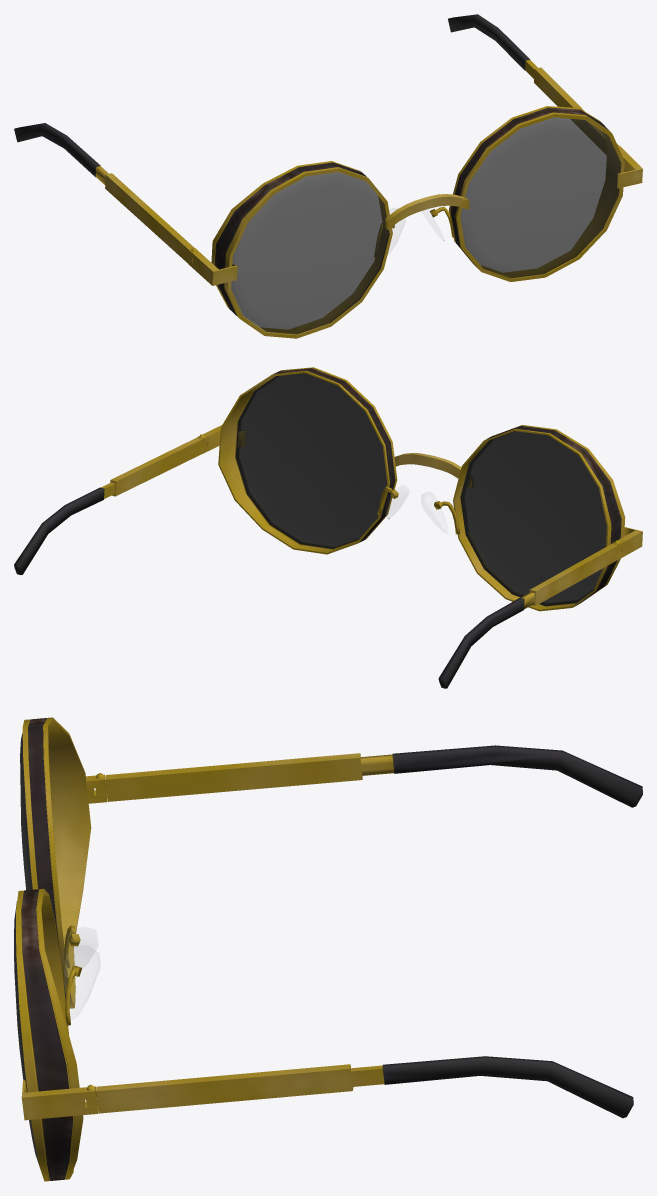
The model's file is sunglasses.glb.
The picture shows the model from 3 angles, top to bottom: view 1: azimuth 30°, elevation 25°; view 2: azimuth 150°, elevation 25°; view 3: azimuth 270°, elevation 25°; orthographic projection. The views are drawn at different scales.
Parts seen in each view (by area): view 1: defaultMaterial.001, defaultMaterial, defaultMaterial.002, defaultMaterial.003; view 2: defaultMaterial.001, defaultMaterial, defaultMaterial.003, defaultMaterial.002, defaultMaterial.004; view 3: defaultMaterial, defaultMaterial.003, defaultMaterial.002, defaultMaterial.004, defaultMaterial.001.
Boxes of the visible parts, x1,y1,x2,y2 form: defaultMaterial.001: (231,117,620,334); defaultMaterial: (95,60,642,338); defaultMaterial.002: (214,107,609,322); defaultMaterial.003: (14,14,529,177); defaultMaterial.001: (235,373,606,606); defaultMaterial: (101,367,642,611); defaultMaterial.003: (14,487,524,688); defaultMaterial.002: (273,368,621,606); defaultMaterial.004: (385,485,447,533); defaultMaterial: (16,717,394,1181); defaultMaterial.003: (382,745,642,1118); defaultMaterial.002: (21,718,73,1180); defaultMaterial.004: (62,927,99,1019); defaultMaterial.001: (14,733,38,1162).
Bounding box in the file's own units: 14.21 × 5.42 × 11.59.
5 materials, 3 textured.
